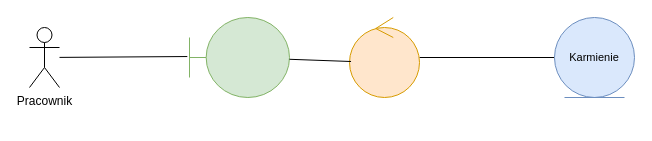
The diagram is 652 pixels wide and 141 high, and some of its shapes have lost their labels. The centre of each missing label's shape, as x and y in pixels:
"3. Zarządzaj karmieniem zwierząt" belongs at point 239,57.
"C3" belongs at point 384,57.
